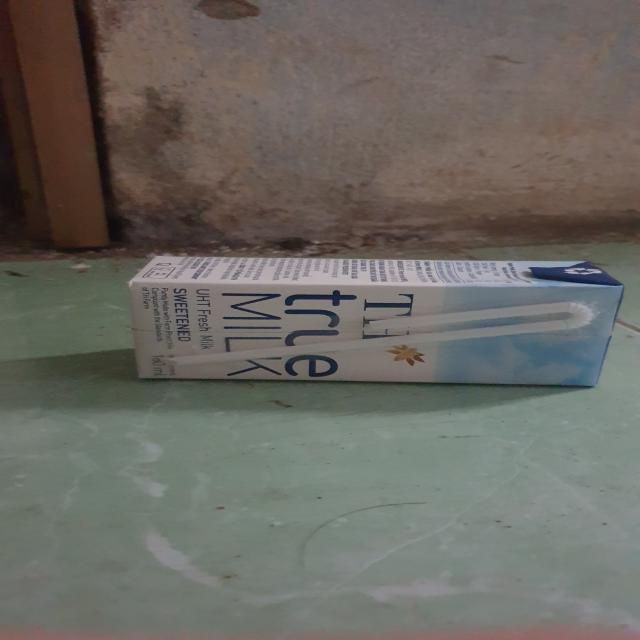TH: (118, 251, 628, 394)
